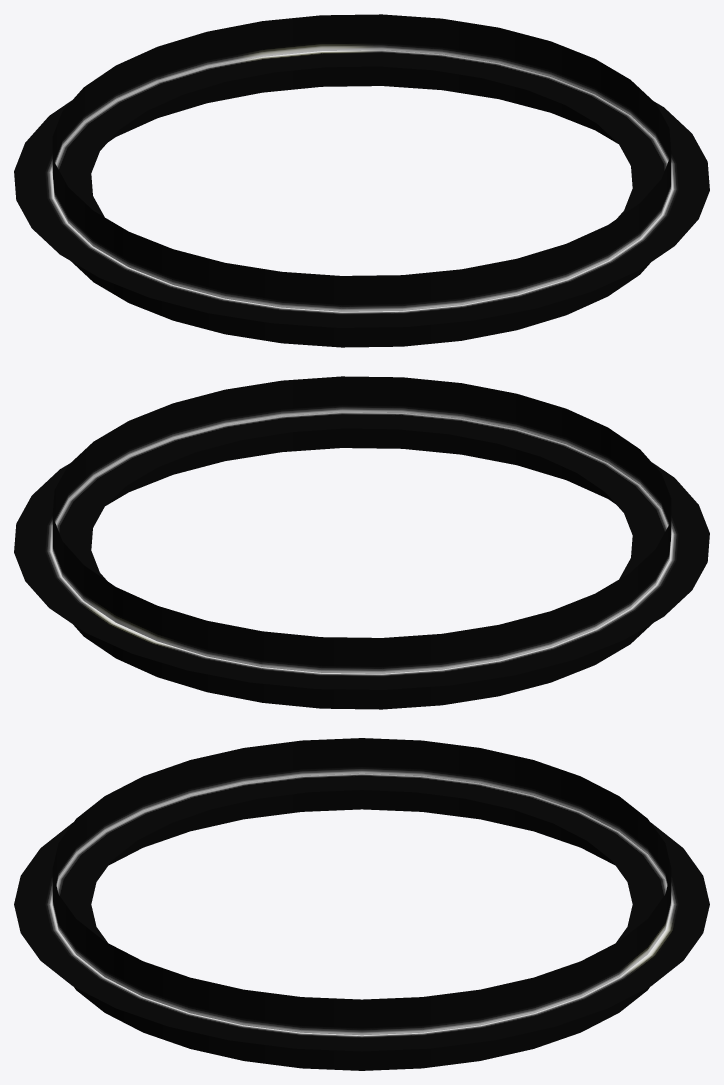
Rendered from loopefe1.FBX.
3 views of the same model, one above another, from view 1: azimuth 30°, elevation 25°; view 2: azimuth 150°, elevation 25°; view 3: azimuth 270°, elevation 25° (orthographic).
Visible parts, largest first — view 1: Cylinder001; view 2: Cylinder001; view 3: Cylinder001.
Part boxes in pixels (x1,y1,x2,y2): Cylinder001: (14,14,709,347); Cylinder001: (14,376,709,709); Cylinder001: (14,738,709,1070).
Bounding box in the file's own units: 84.14 × 9.53 × 84.14.
